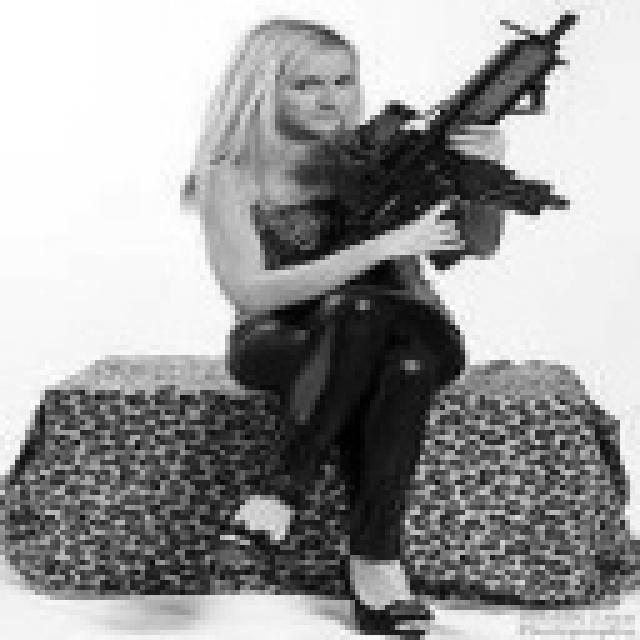Rifle: (256, 2, 640, 286)
